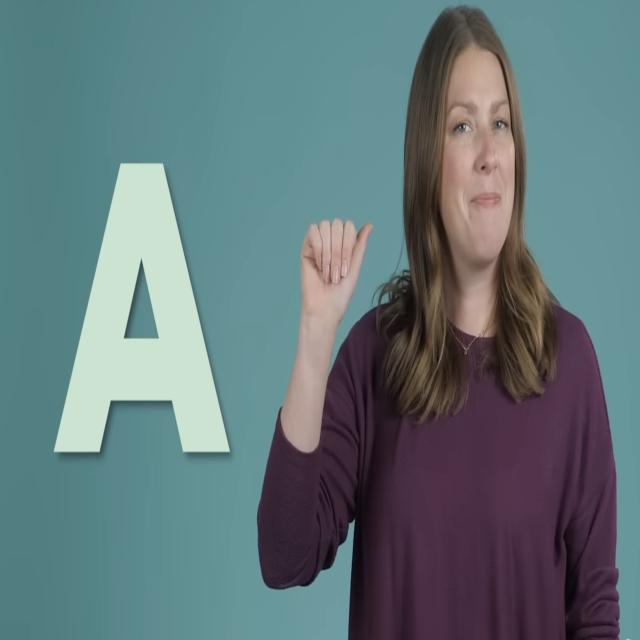A: (269, 182, 388, 377)
